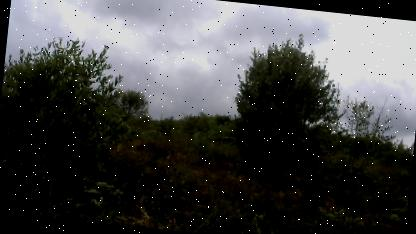tree: (222, 25, 356, 190)
